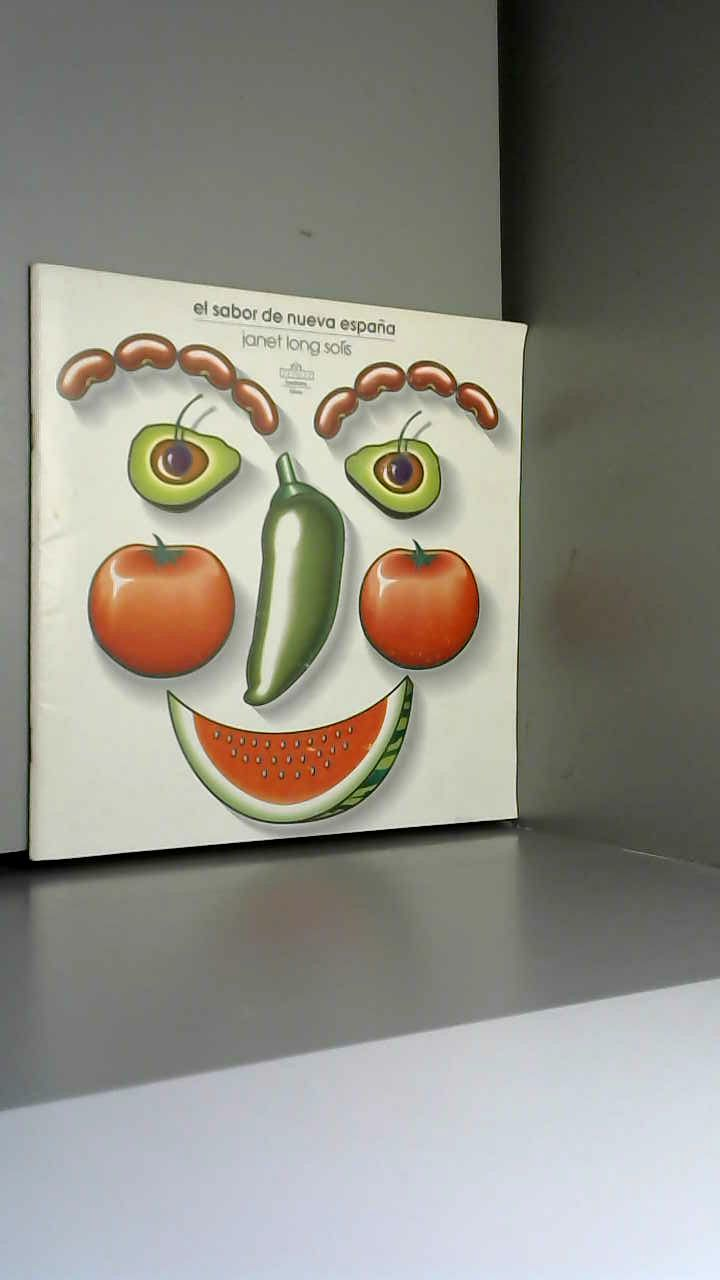book: (0, 216, 570, 928)
